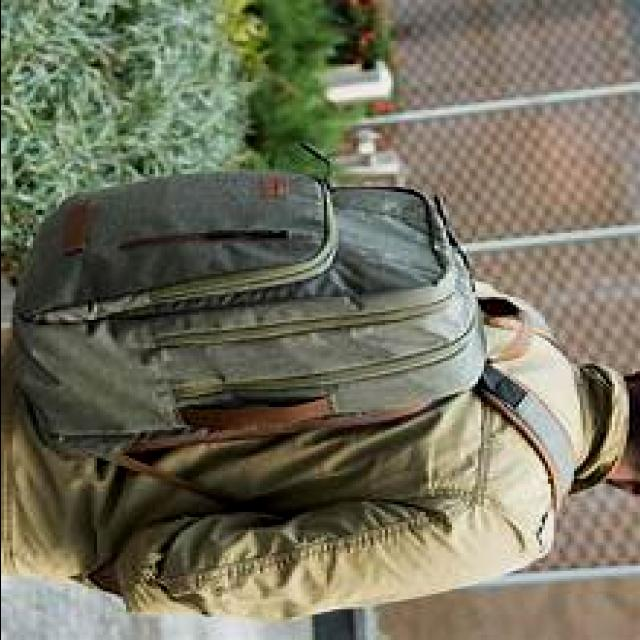backpack: (10, 147, 574, 544)
